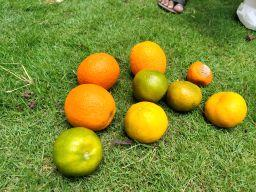orange: (52, 127, 103, 178), (65, 83, 116, 131), (124, 102, 169, 144), (203, 91, 248, 129), (76, 52, 120, 89), (130, 40, 167, 79), (133, 67, 169, 102), (166, 81, 202, 113), (186, 61, 213, 86)
